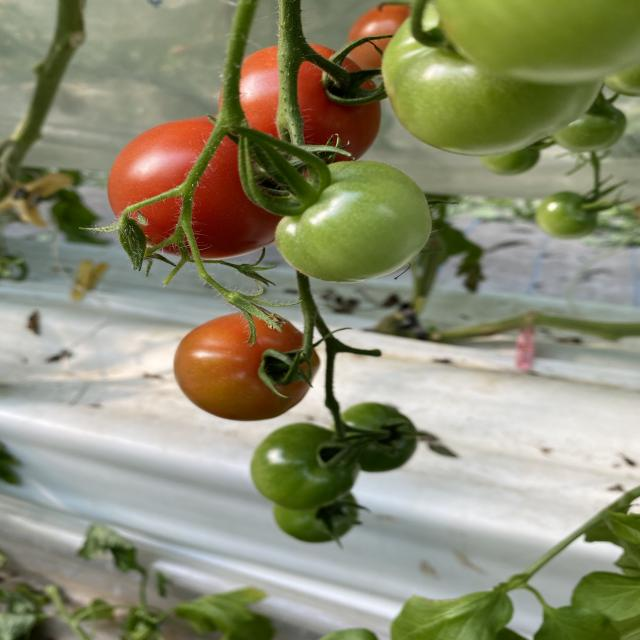c-half-riped: (172, 311, 322, 421), (345, 4, 424, 81)
c-riped: (107, 115, 304, 262), (217, 42, 383, 179)
c-unriped: (382, 1, 605, 158), (273, 159, 431, 284), (434, 0, 640, 85), (249, 424, 363, 511), (329, 401, 419, 473), (272, 490, 358, 543), (549, 98, 627, 154), (533, 190, 598, 240), (478, 140, 540, 174)
